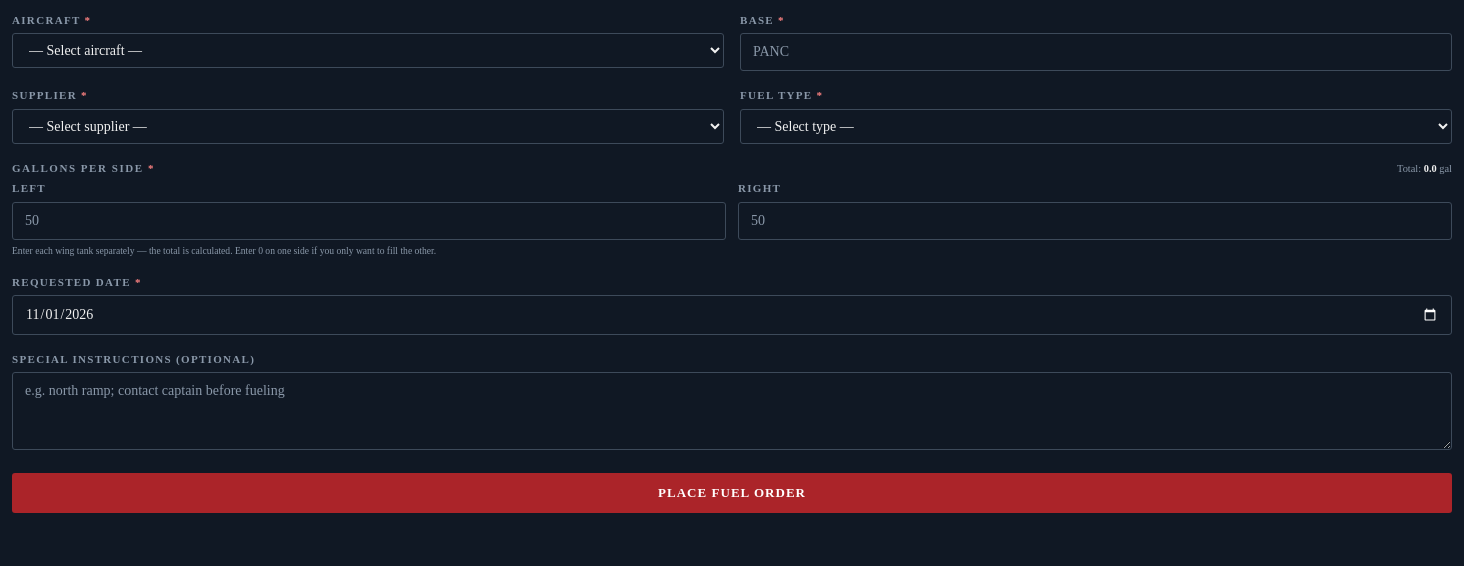
Scenario: keeps the operator's supplied date and explains a missing approved fuel type
expect the date field labelled "Requested Date *" holds "2026-11-01": met, box [12,295,1452,335]
Select "NTEST" in the dropdown labelled "Aircraft *". click: (368,51)
box: [12,33,724,68]
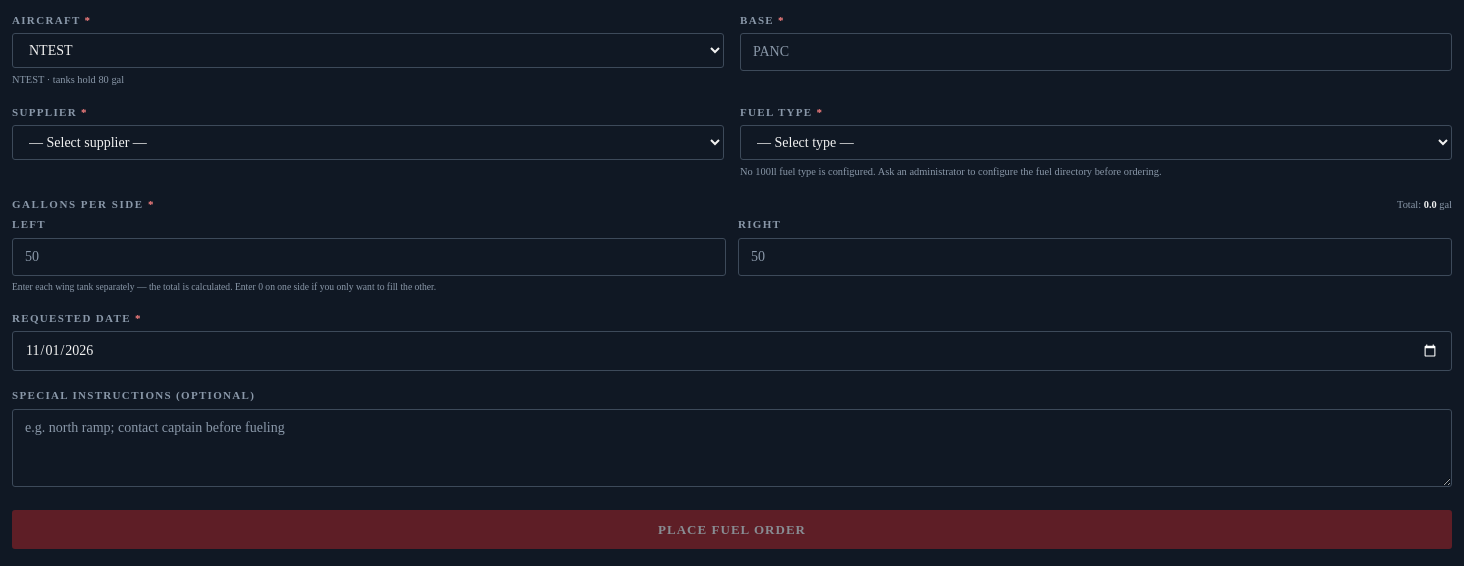
expect the text "No 100ll fuel type is configured" is shown: met, box [740,166,1162,177]
expect the button "Place fuel order" is disabled: met, box [12,510,1452,549]
